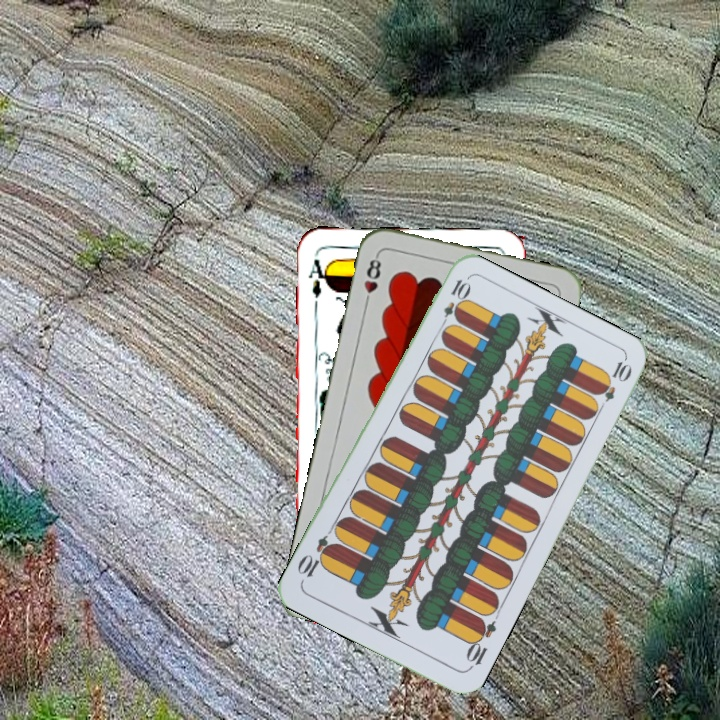E10: (461, 614, 499, 672), (436, 275, 471, 332)
EA: (305, 255, 331, 300)
H8: (360, 251, 384, 309)
